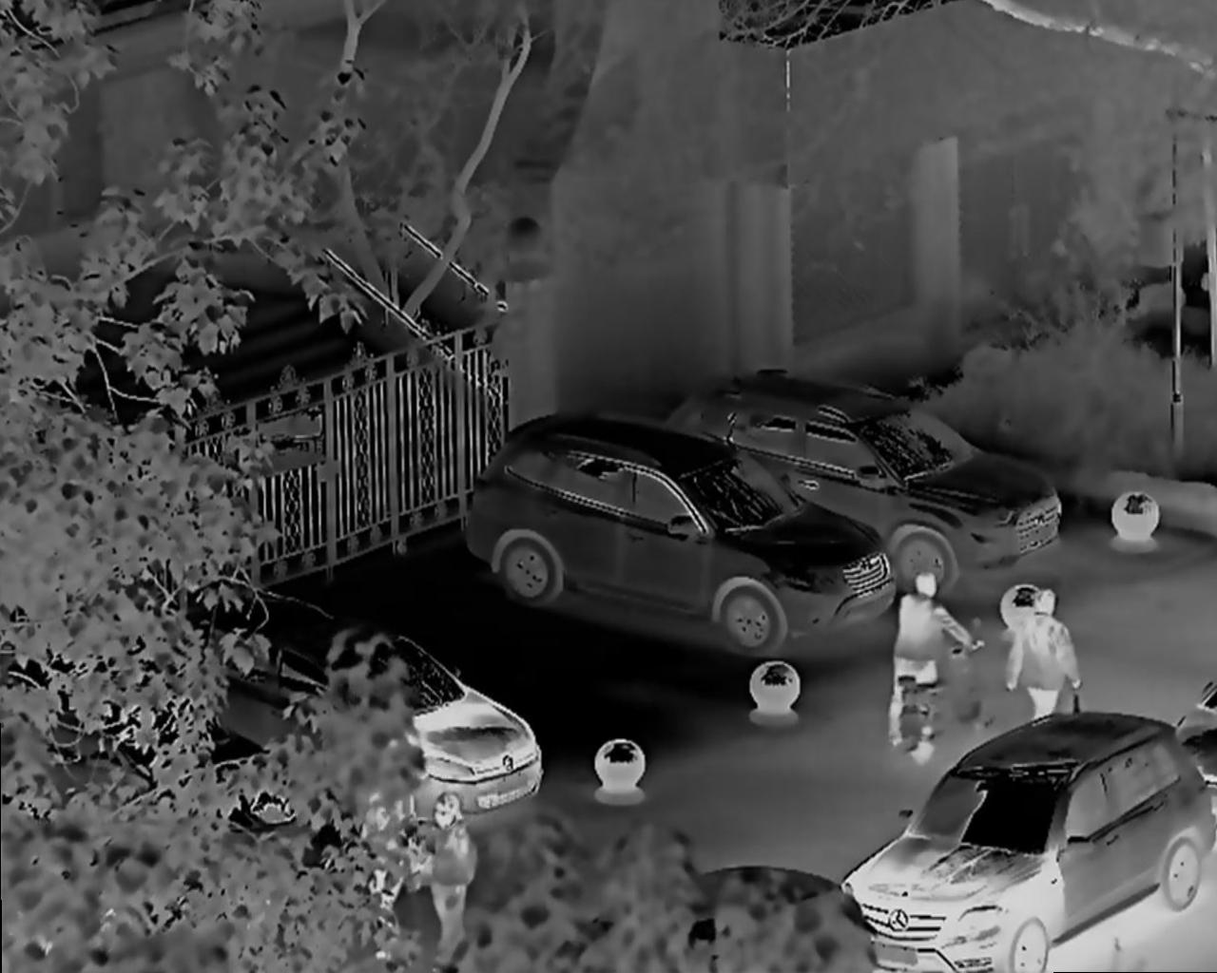person: (879, 567, 988, 770), (998, 587, 1081, 734), (416, 787, 490, 948)
